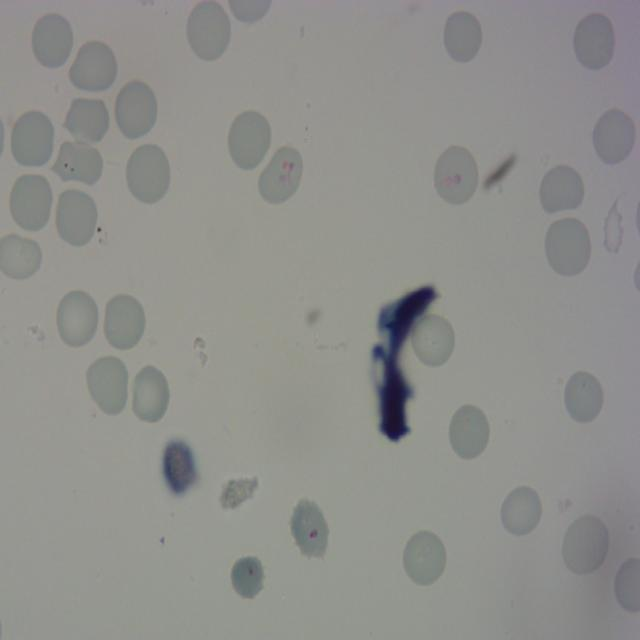leukocyte: (557, 512, 610, 576), (542, 214, 593, 279), (124, 140, 172, 207), (225, 107, 273, 173), (6, 170, 54, 236), (112, 76, 160, 142), (52, 184, 100, 250), (406, 308, 457, 370), (8, 107, 56, 171), (67, 38, 119, 97), (570, 9, 617, 74), (54, 286, 101, 351), (84, 353, 131, 418), (590, 105, 638, 168), (185, 0, 233, 63), (29, 9, 76, 72), (101, 291, 147, 353), (536, 161, 586, 218), (401, 528, 448, 588), (128, 363, 172, 426), (446, 402, 492, 462), (54, 136, 104, 191), (498, 482, 544, 539), (441, 6, 484, 65), (562, 368, 605, 426), (65, 98, 109, 142)
red blood cell: (432, 143, 478, 207), (258, 143, 304, 206), (289, 498, 330, 563)
